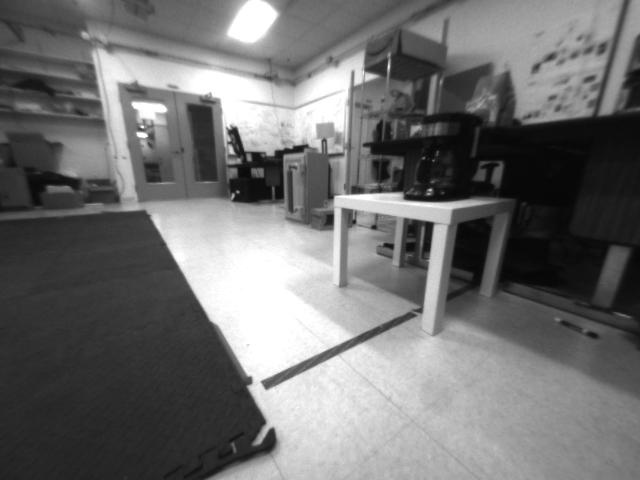coffee_pot: (403, 111, 483, 204)
